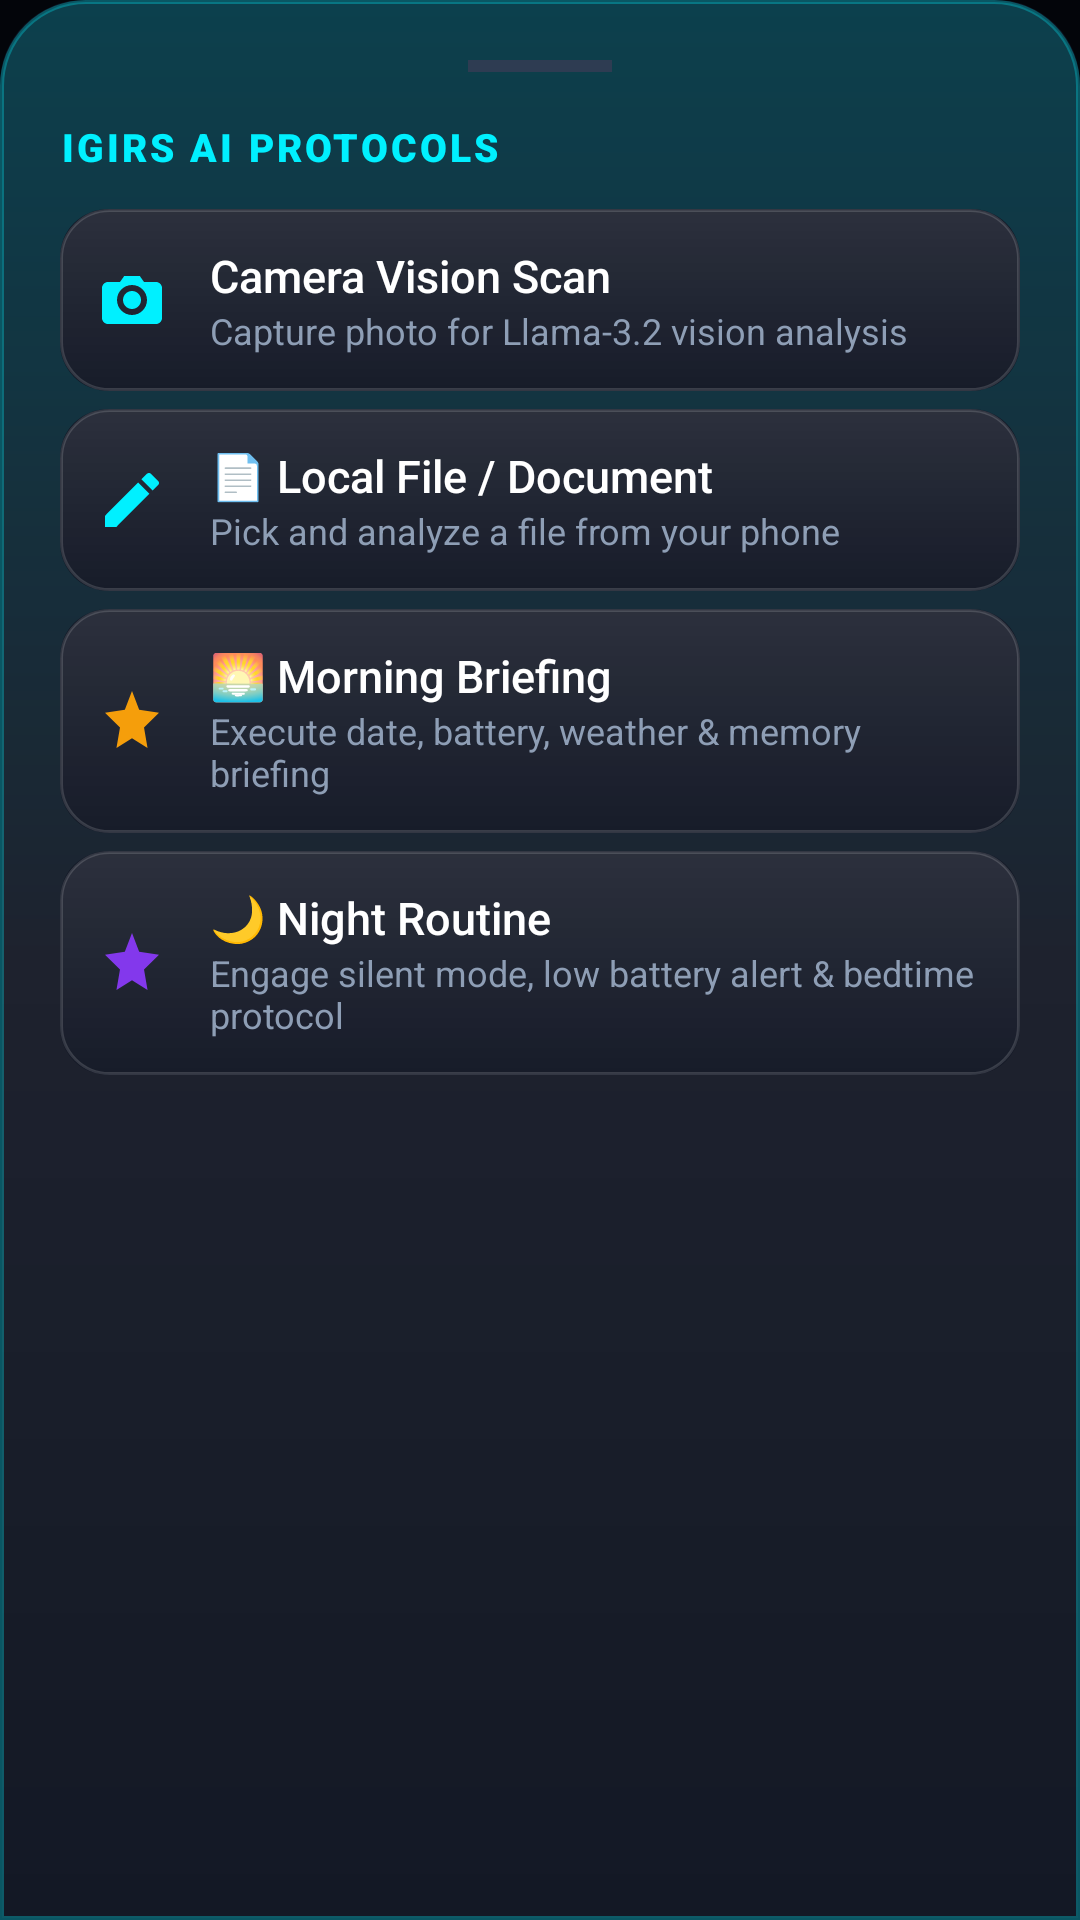

Named icons in this screenshot (1080 × 1920) and their bounding boxes, {"x1": x1, "y1": y1, "x2": x2, "y2": y2}:
pencil: {"x1": 105, "y1": 473, "x2": 159, "y2": 527}
